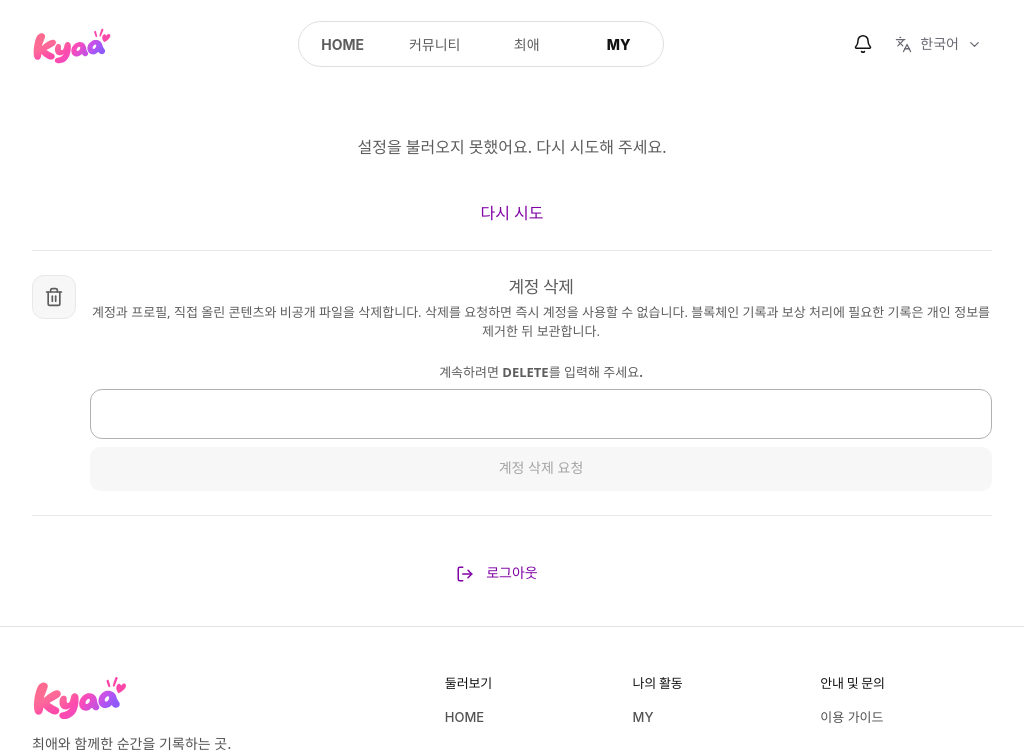
Test: settings logout › waits for Privy logout, prevents double clicks and returns to login
This screenshot has width=1024, height=754.
Expected: the text "설정을 불러오지 못했어요. 다시 시도해 주세요." is shown, [358,134,667,158]
What coordinates should you click on to do the following:
click the button "로그아웃"
I would click on:
 (512, 574)
Its box is [438,552,586,596].
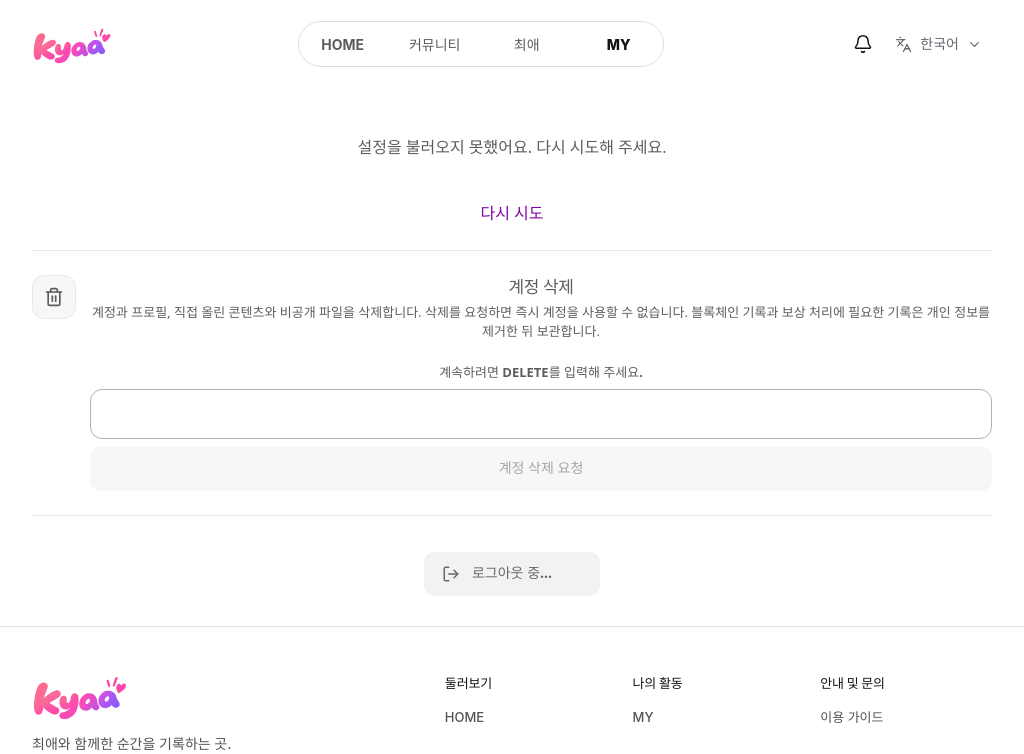
Result: the button "로그아웃 중…" is disabled at [424,552,600,596]
